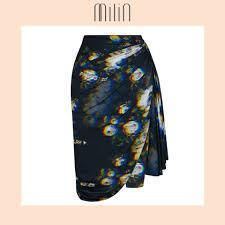skirt: (68, 30, 177, 203)
